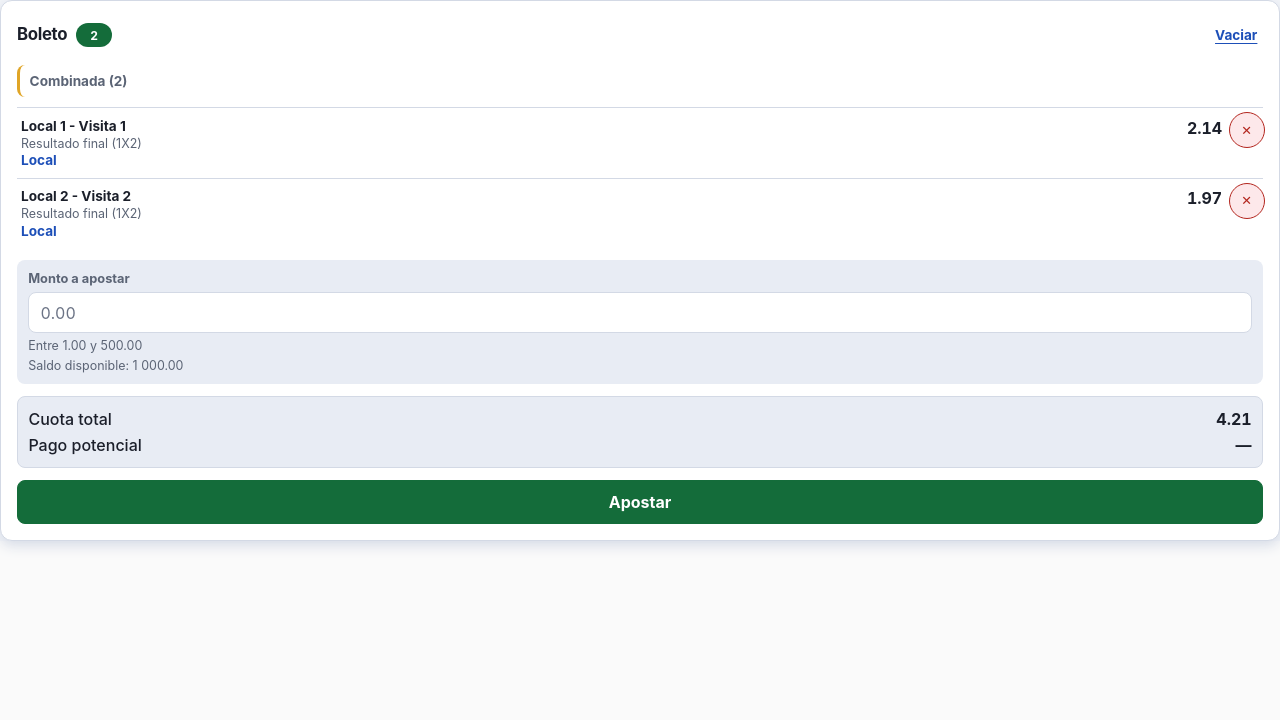
Scenario: BetSlipComponent › combinada: multiplica las cuotas (2.14 × 1.97 = 4.21)
Step 1. Type "10" into the field with id "stake" → (640, 312), box [28,292,1252,333]
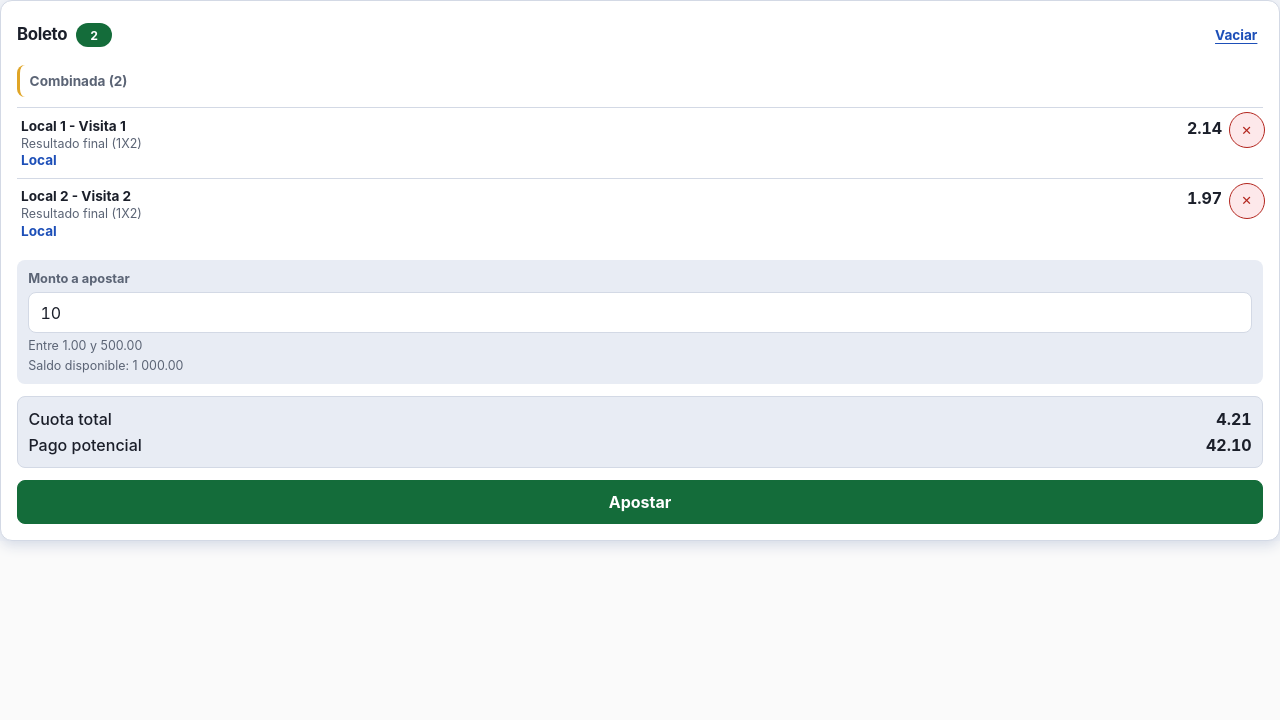
Check: the text "Combinada (2)" is shown, box [17,65,1263,97]
Check: the text "Pago potencial 42.10" is shown, box [28,432,1252,458]
